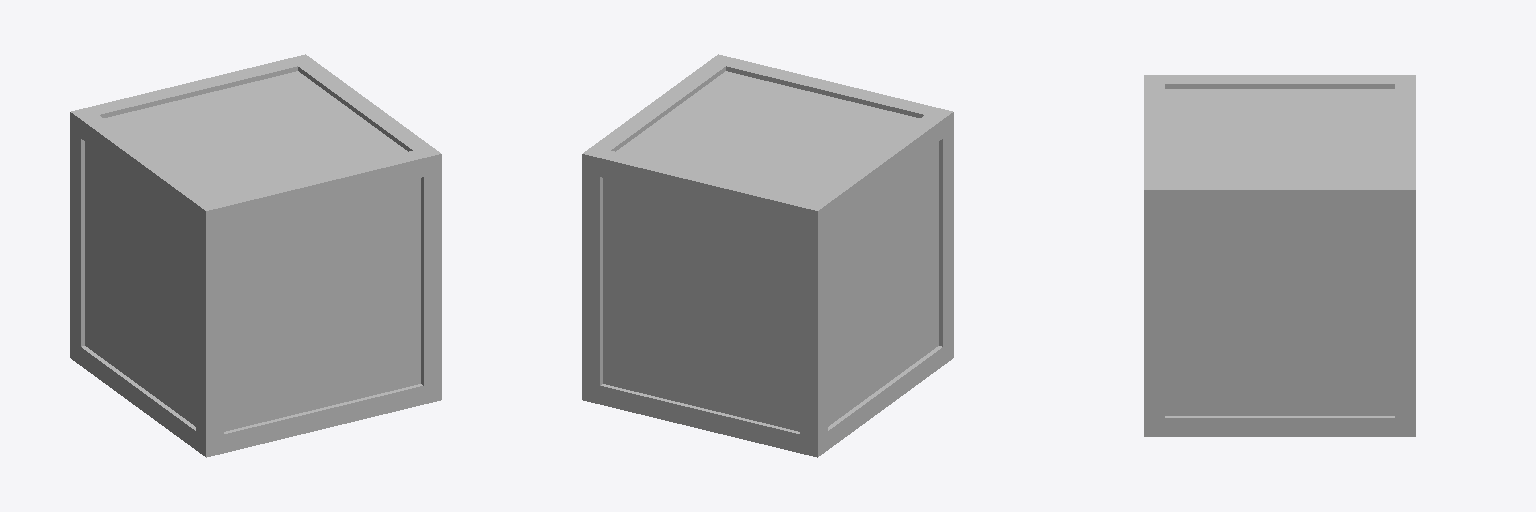
3 views of the same model, side by side, from view 1: azimuth 30°, elevation 25°; view 2: azimuth 150°, elevation 25°; view 3: azimuth 270°, elevation 25° (orthographic).
Parts seen in each view (by area): view 1: group[number redacted], group[number redacted], group[number redacted], group[number redacted], group[number redacted], group[number redacted], group[number redacted], group[number redacted], group[number redacted], group[number redacted], group[number redacted], group[number redacted] (+13 smaller); view 2: group[number redacted], group[number redacted], group[number redacted], group[number redacted], group[number redacted], group[number redacted], group[number redacted], group[number redacted], group[number redacted], group[number redacted], group[number redacted], group[number redacted] (+14 smaller); view 3: group[number redacted], group[number redacted], group[number redacted], group[number redacted], group[number redacted], group[number redacted], group[number redacted], group[number redacted], group[number redacted], group[number redacted], group[number redacted], group[number redacted] (+2 smaller).
Part boxes in pixels (x1,y1,x2,y2): group[number redacted]: (85,71,420,431); group[number redacted]: (233,190,260,220); group[number redacted]: (377,155,405,185); group[number redacted]: (196,223,223,248); group[number redacted]: (196,261,223,286); group[number redacted]: (196,280,223,305); group[number redacted]: (196,356,223,381); group[number redacted]: (196,394,223,419); group[number redacted]: (196,242,223,267); group[number redacted]: (196,337,223,362); group[number redacted]: (196,375,223,400); group[number redacted]: (196,318,223,343); group[number redacted]: (603,71,938,431); group[number redacted]: (800,199,827,229); group[number redacted]: (763,190,790,220); group[number redacted]: (618,155,646,185); group[number redacted]: (800,280,827,305); group[number redacted]: (800,394,827,419); group[number redacted]: (800,356,827,381); group[number redacted]: (800,261,827,286); group[number redacted]: (800,223,827,248); group[number redacted]: (800,375,827,400); group[number redacted]: (800,337,827,362); group[number redacted]: (800,242,827,267); group[number redacted]: (1165,89,1394,415); group[number redacted]: (1165,181,1185,208); group[number redacted]: (1186,181,1206,208); group[number redacted]: (1207,181,1227,208); group[number redacted]: (1228,181,1248,208); group[number redacted]: (1249,181,1269,208); group[number redacted]: (1290,181,1310,208); group[number redacted]: (1374,181,1394,208); group[number redacted]: (1332,181,1352,208); group[number redacted]: (1353,181,1373,208); group[number redacted]: (1395,181,1415,208); group[number redacted]: (1311,181,1331,208).
Bounding box in the file's own units: 1.04 × 1.04 × 1.04.